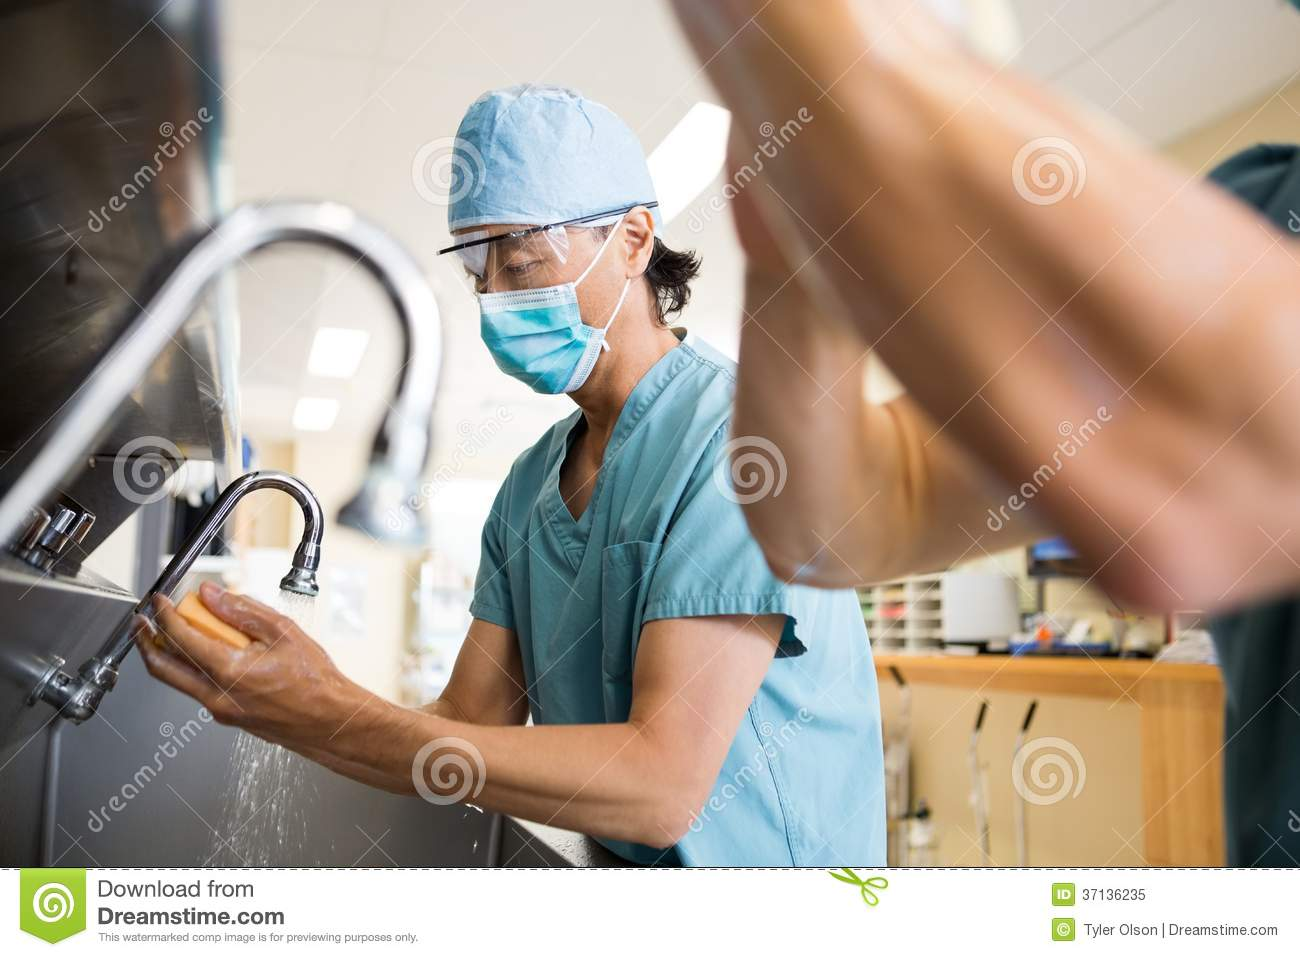mask: (467, 283, 610, 405)
